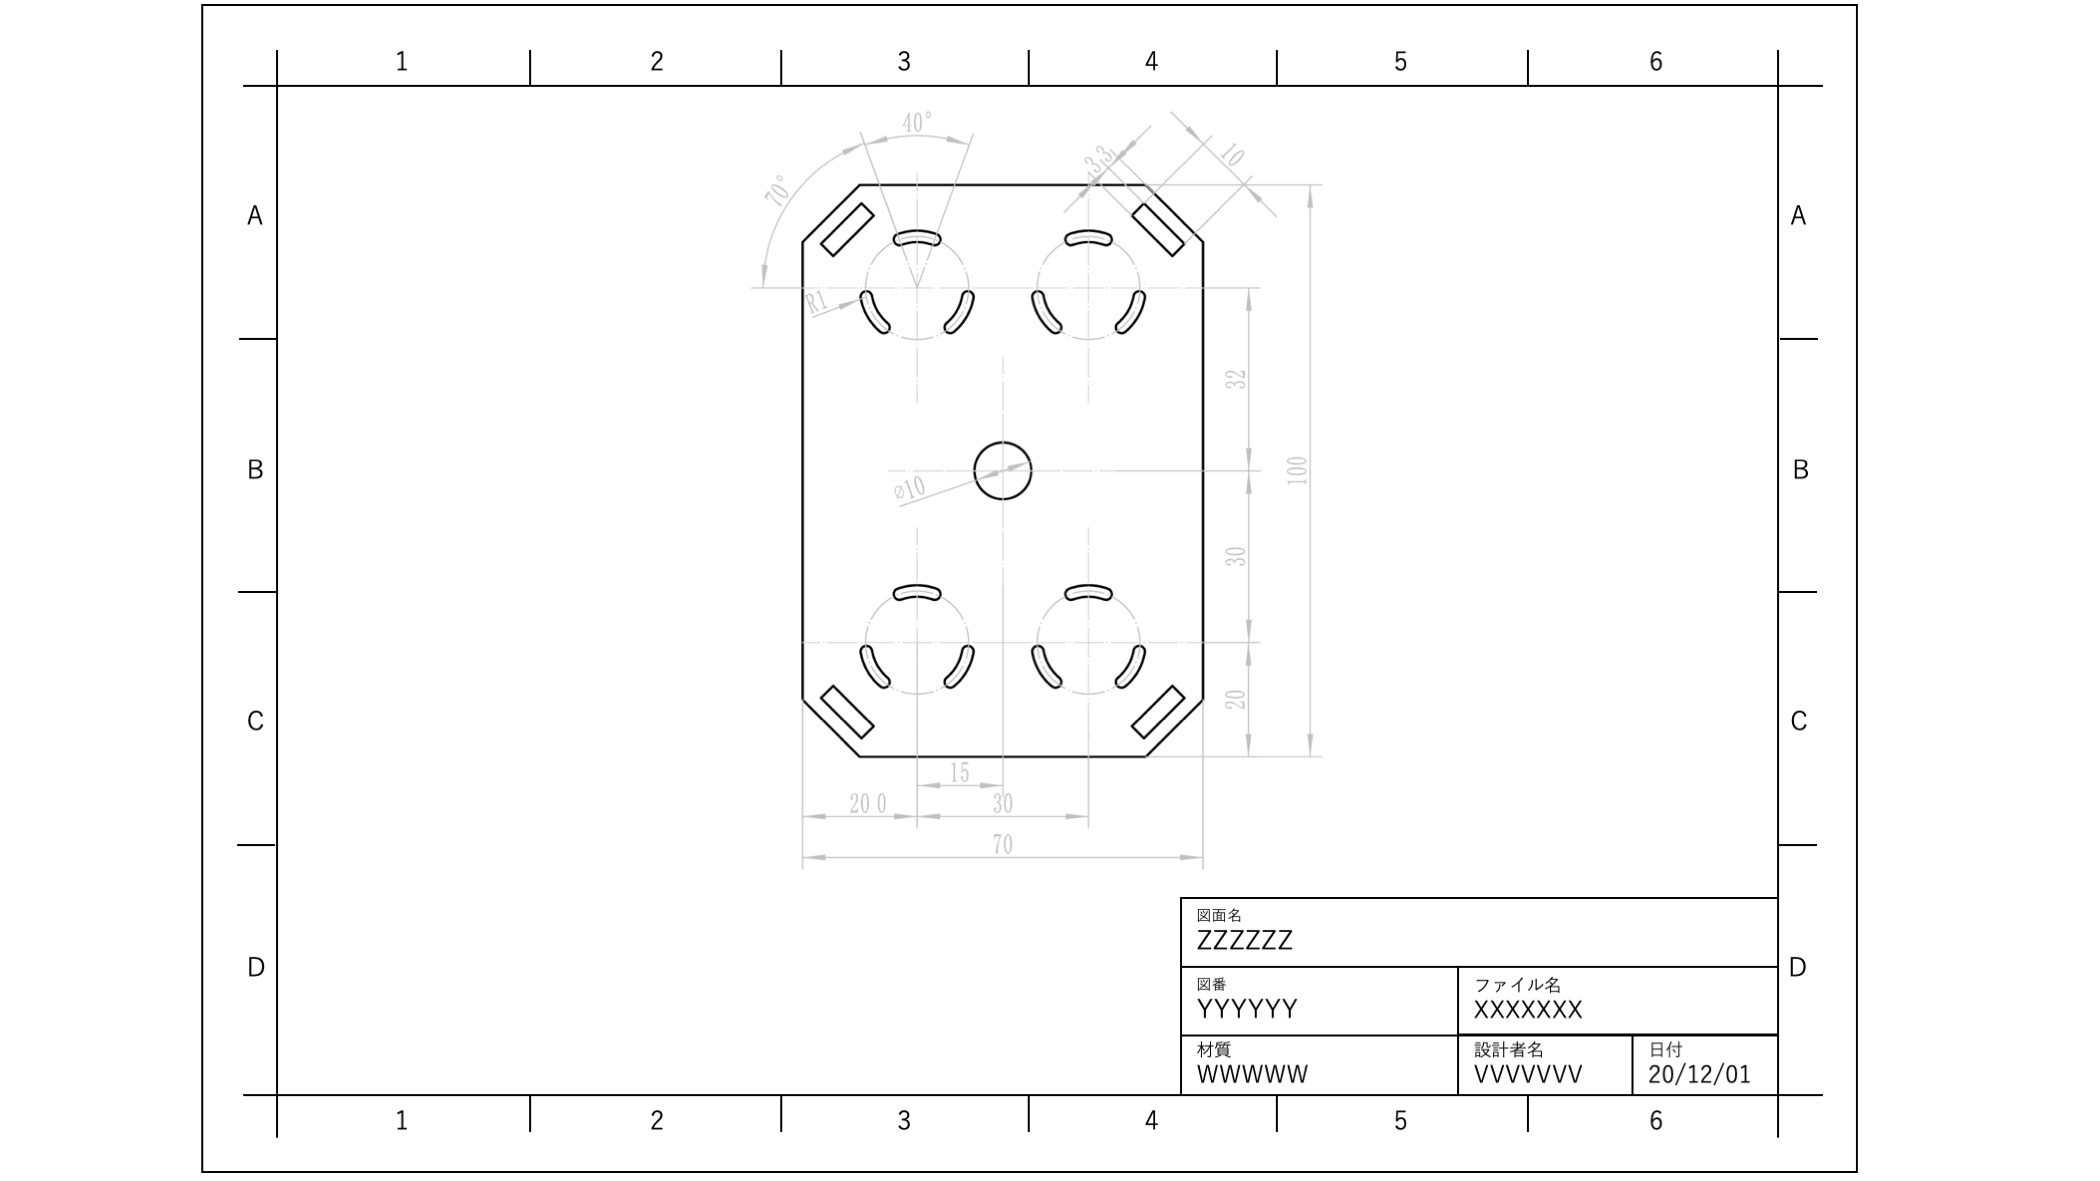circle: (972, 435, 1038, 510)
rectangle: (1129, 192, 1191, 260), (816, 682, 884, 744), (1129, 678, 1190, 741), (816, 192, 873, 260)
round_rectangle: (1062, 567, 1124, 613), (1025, 630, 1067, 695), (834, 643, 896, 686), (940, 277, 981, 339), (1108, 283, 1148, 340), (1111, 637, 1151, 691), (1028, 286, 1069, 337), (891, 578, 952, 613), (854, 287, 893, 337), (891, 213, 940, 252), (948, 634, 971, 695), (1064, 221, 1115, 247)
